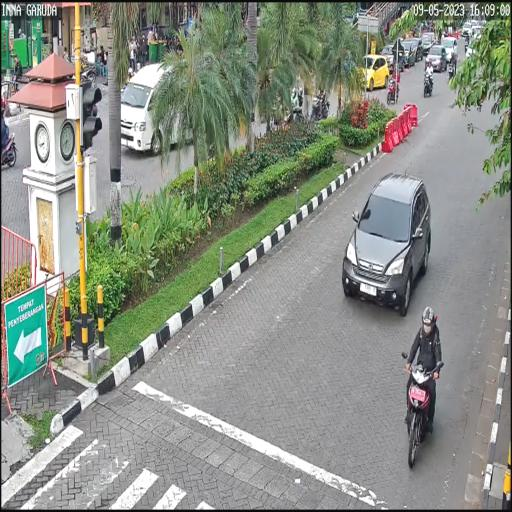mobil: (338, 170, 435, 315)
motor: (398, 342, 442, 472)
